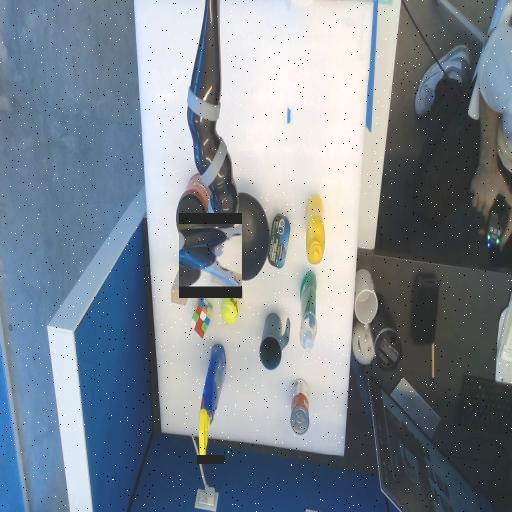bowl: (218, 194, 268, 279)
cleanser: (300, 271, 316, 351)
coffee_can: (176, 174, 214, 245)
jaco: (179, 224, 242, 287)
meat_can: (267, 230, 289, 251)
mug: (259, 313, 289, 369)
mustard_bottle: (306, 195, 324, 263)
rubik: (190, 305, 212, 327)
soup_can: (290, 379, 308, 434)
tennis_ball: (221, 294, 238, 324)
windex: (197, 394, 225, 416)
wooden_block: (170, 268, 195, 293)
workspace: (135, 3, 372, 455)
